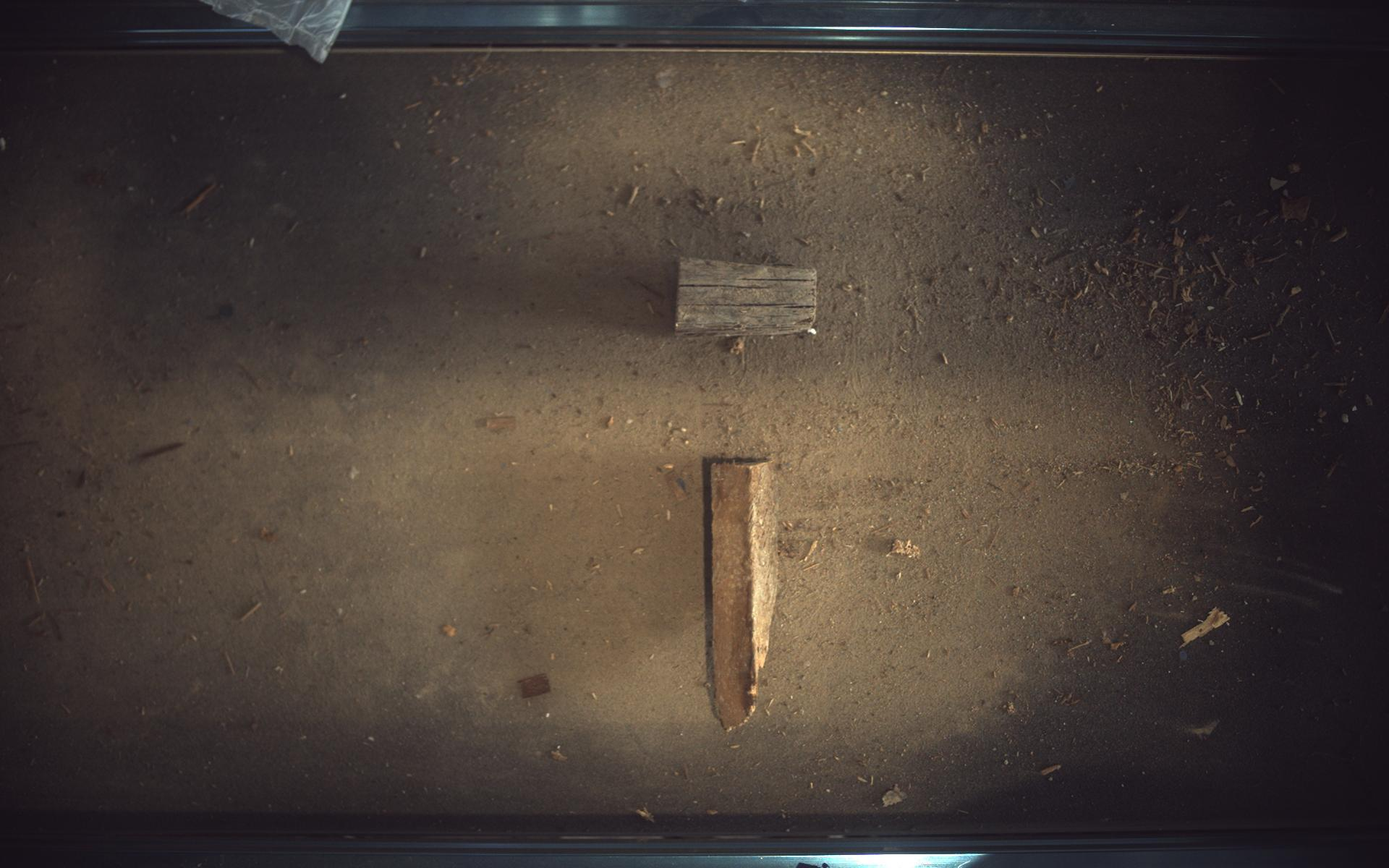wood: (712, 461, 778, 731), (677, 258, 818, 336)
